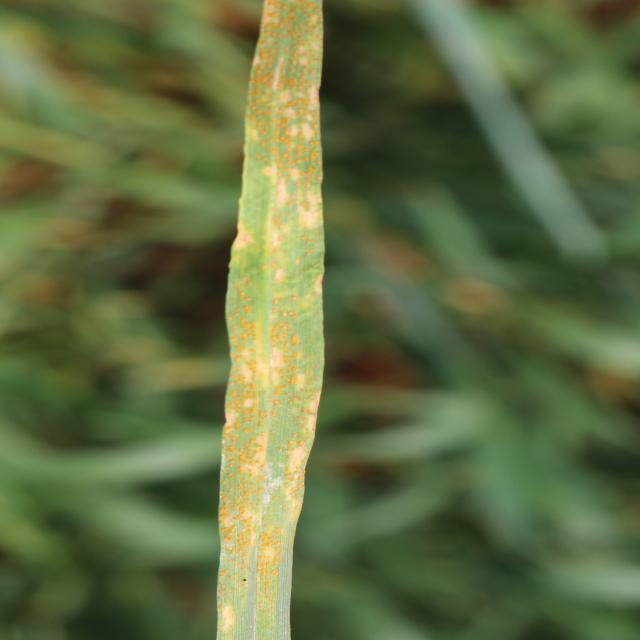Stripe Rust: (235, 0, 322, 289), (222, 420, 289, 599), (225, 306, 316, 411)
